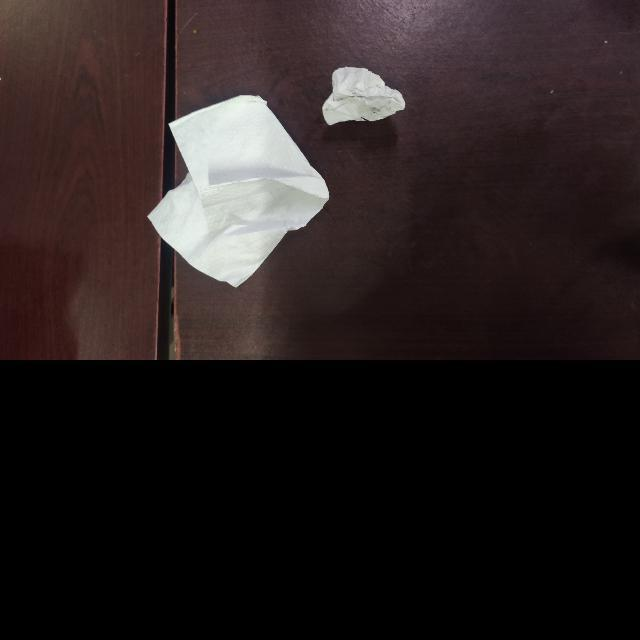kitchen paper: (153, 93, 324, 284), (320, 64, 407, 134)
